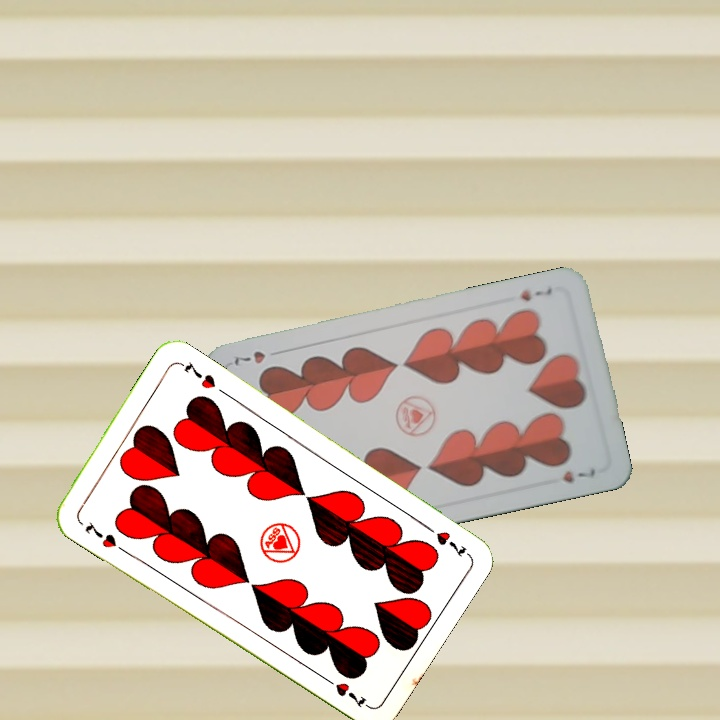H7: (419, 519, 471, 560), (81, 517, 127, 555), (516, 284, 554, 304)
